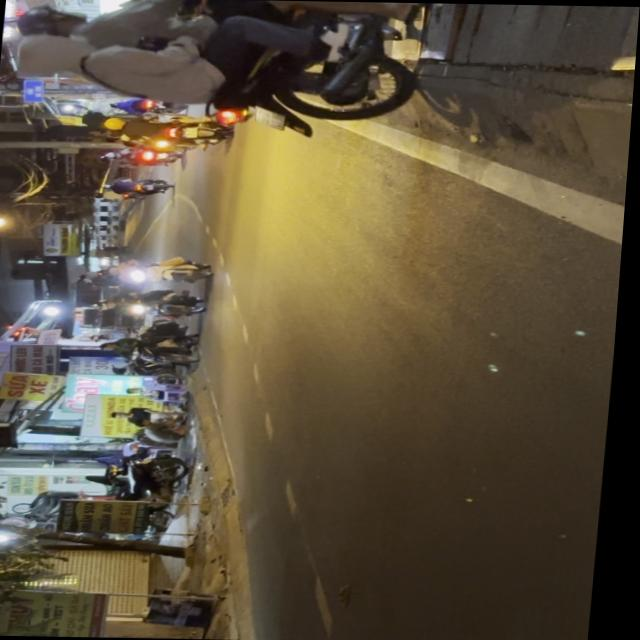helmet: (7, 34, 97, 79), (7, 6, 84, 42)
licenseplate: (0, 0, 424, 140)
